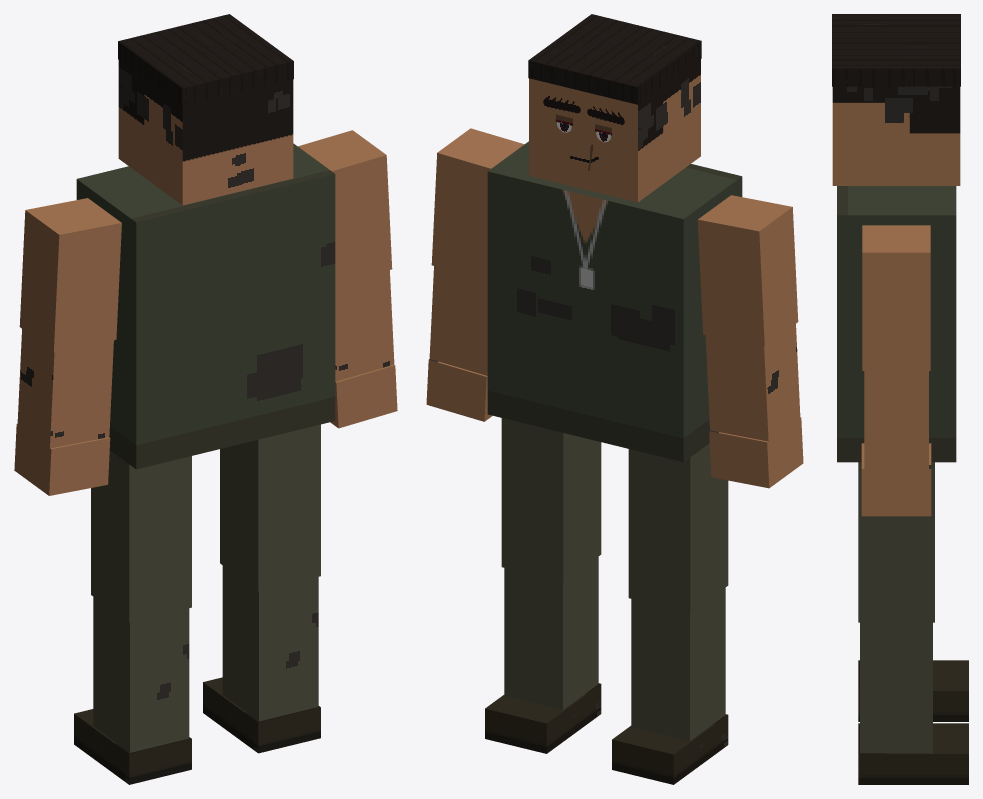
The model's file is survivor_max.glb.
3 renders of one model, left to right at view 1: azimuth 30°, elevation 25°; view 2: azimuth 150°, elevation 25°; view 3: azimuth 270°, elevation 25°, orthographic.
Visible parts, largest first — view 1: block_torso, block_head, block_thigh.L, block_thigh.R, block_upper_arm.L, block_shin.R, block_shin.L, block_hair-buzz, block_forearm.L, block_upper_arm.R, block_forearm.R, block_hand.L (+3 smaller); view 2: block_torso, block_head, block_thigh.L, block_thigh.R, block_upper_arm.L, block_shin.L, block_shin.R, block_hair-buzz, block_forearm.L, block_upper_arm.R, block_forearm.R, block_foot.L (+3 smaller); view 3: block_torso, block_head, block_upper_arm.R, block_shin.R, block_hair-buzz, block_thigh.R, block_forearm.R, block_foot.R, block_hand.R, block_foot.L.
Boxes of the visible parts, x1,y1,x2,y2 form: block_torso: (76,143,335,469); block_head: (118,60,293,205); block_thigh.L: (91,450,191,622); block_thigh.R: (220,424,320,591); block_upper_arm.L: (19,198,121,351); block_shin.R: (222,565,318,721); block_shin.L: (93,597,189,752); block_hair-buzz: (118,14,293,106); block_forearm.L: (17,329,113,448); block_upper_arm.R: (298,130,392,285); block_forearm.R: (335,270,394,381); block_hand.L: (14,423,110,495); block_torso: (487,141,742,462); block_head: (529,59,700,202); block_thigh.L: (628,443,728,612); block_thigh.R: (501,418,601,582); block_upper_arm.L: (697,195,798,346); block_shin.L: (631,588,725,741); block_shin.R: (504,557,598,710); block_hair-buzz: (528,14,701,104); block_forearm.L: (705,324,800,441); block_upper_arm.R: (431,128,524,281); block_forearm.R: (429,266,487,375); block_foot.L: (612,714,728,784); block_torso: (837,186,956,462); block_head: (832,86,960,185); block_upper_arm.R: (862,225,930,370); block_shin.R: (860,622,932,753); block_hair-buzz: (832,14,960,86); block_thigh.R: (858,462,934,622); block_forearm.R: (864,371,928,468); block_foot.R: (858,723,968,784); block_hand.R: (861,443,931,516); block_foot.L: (858,660,968,721).
Bounding box in the file's own units: 0.9448 × 1.8 × 0.3215.
Materials: 1 (1 with a texture image).
